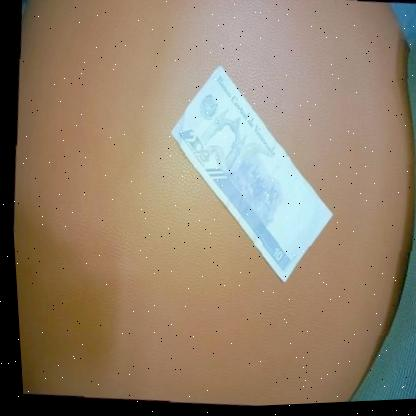ten-back-vef: (153, 59, 345, 293)
